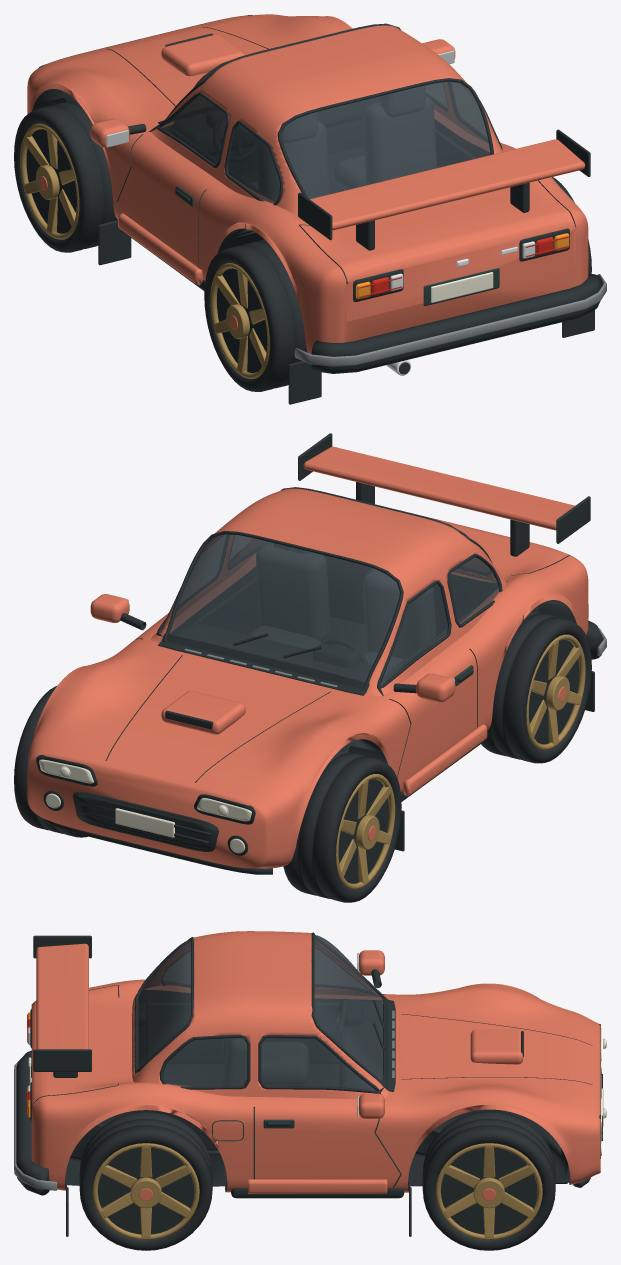
Rendered from fubuki.fbx.
3 renders of one model, top to bottom at view 1: azimuth 30°, elevation 25°; view 2: azimuth 150°, elevation 25°; view 3: azimuth 270°, elevation 25°, orthographic. The views are drawn at different scales.
Visible parts, largest first — view 1: Body, Wheel_RL_Mesh, Wheel_FL_Mesh; view 2: Body, Wheel_FL_Mesh, Wheel_RL_Mesh, Wheel_FR_Mesh; view 3: Body, Wheel_RR_Mesh, Wheel_FR_Mesh, Wheel_RL_Mesh.
Boxes of the visible parts, x1,y1,x2,y2 form: Body: [27, 14, 606, 404]; Wheel_RL_Mesh: [204, 239, 307, 391]; Wheel_FL_Mesh: [14, 100, 117, 252]; Body: [27, 433, 606, 874]; Wheel_FL_Mesh: [283, 750, 401, 902]; Wheel_RL_Mesh: [481, 611, 591, 763]; Wheel_FR_Mesh: [14, 686, 87, 837]; Body: [14, 931, 606, 1236]; Wheel_RR_Mesh: [79, 1111, 212, 1250]; Wheel_FR_Mesh: [422, 1111, 555, 1250]; Wheel_RL_Mesh: [138, 1003, 146, 1060].
Bounding box in the file's own units: 239 × 156 × 384.
